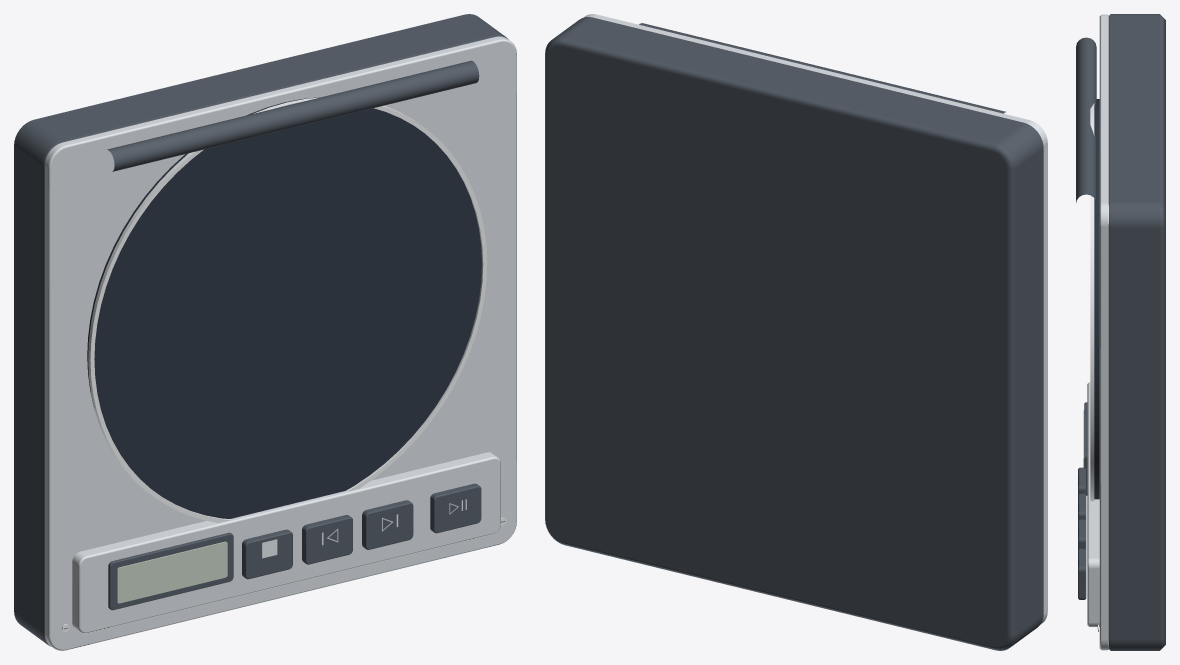
File: cd-player.glb
The picture shows the model from 3 angles, left to right: view 1: azimuth 30°, elevation 25°; view 2: azimuth 150°, elevation 25°; view 3: azimuth 270°, elevation 25°; orthographic projection. The views are drawn at different scales.
Visible parts, largest first — view 1: rubber, silver, dark, chrome, LCD; view 2: dark, silver; view 3: dark, silver, rubber, chrome.
Part boxes in pixels (x1,y1,x2,y2): rubber: (87, 97, 481, 518); silver: (44, 36, 516, 650); dark: (14, 14, 508, 646); chrome: (62, 97, 506, 631); LCD: (117, 541, 227, 603); dark: (545, 17, 1043, 650); silver: (583, 14, 1047, 623); dark: (1076, 14, 1165, 650); silver: (1087, 14, 1108, 650); rubber: (1094, 99, 1099, 499); chrome: (1090, 103, 1098, 631).
Size of the model in its own units: 235 by 242 by 44.
Materials: 7 (1 with a texture image).
